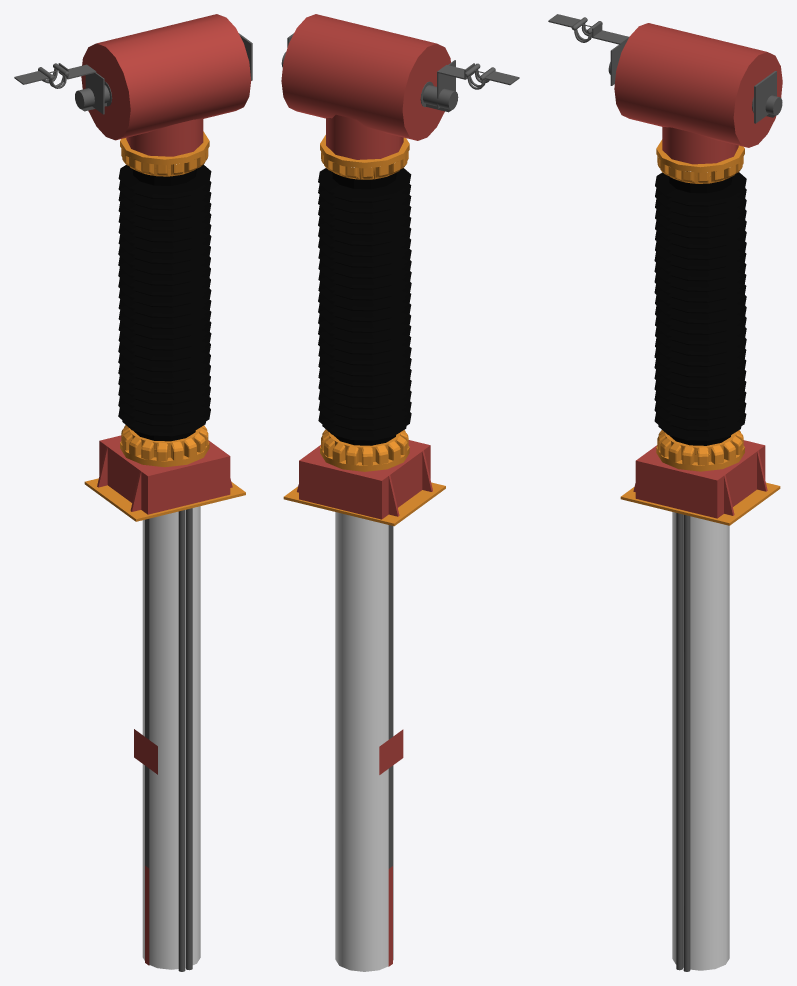
The model's file is 良庆站220kV_220kV_变电设备_一次设备_电流_e479e20.glb.
3 renders of one model, left to right at view 1: azimuth 30°, elevation 25°; view 2: azimuth 150°, elevation 25°; view 3: azimuth 330°, elevation 25°, orthographic.
Parts seen in each view (by area): view 1: 良庆站220kV_220kV_变电设备_一次设备_电流_e479e.021; view 2: 良庆站220kV_220kV_变电设备_一次设备_电流_e479e.021; view 3: 良庆站220kV_220kV_变电设备_一次设备_电流_e479e.021.
Part boxes in pixels (x1,y1,x2,y2): 良庆站220kV_220kV_变电设备_一次设备_电流_e479e.021: [14, 14, 252, 971]; 良庆站220kV_220kV_变电设备_一次设备_电流_e479e.021: [281, 14, 519, 971]; 良庆站220kV_220kV_变电设备_一次设备_电流_e479e.021: [548, 14, 782, 971].
Size of the model in its own units: 1.82 by 7.07 by 0.7186.
